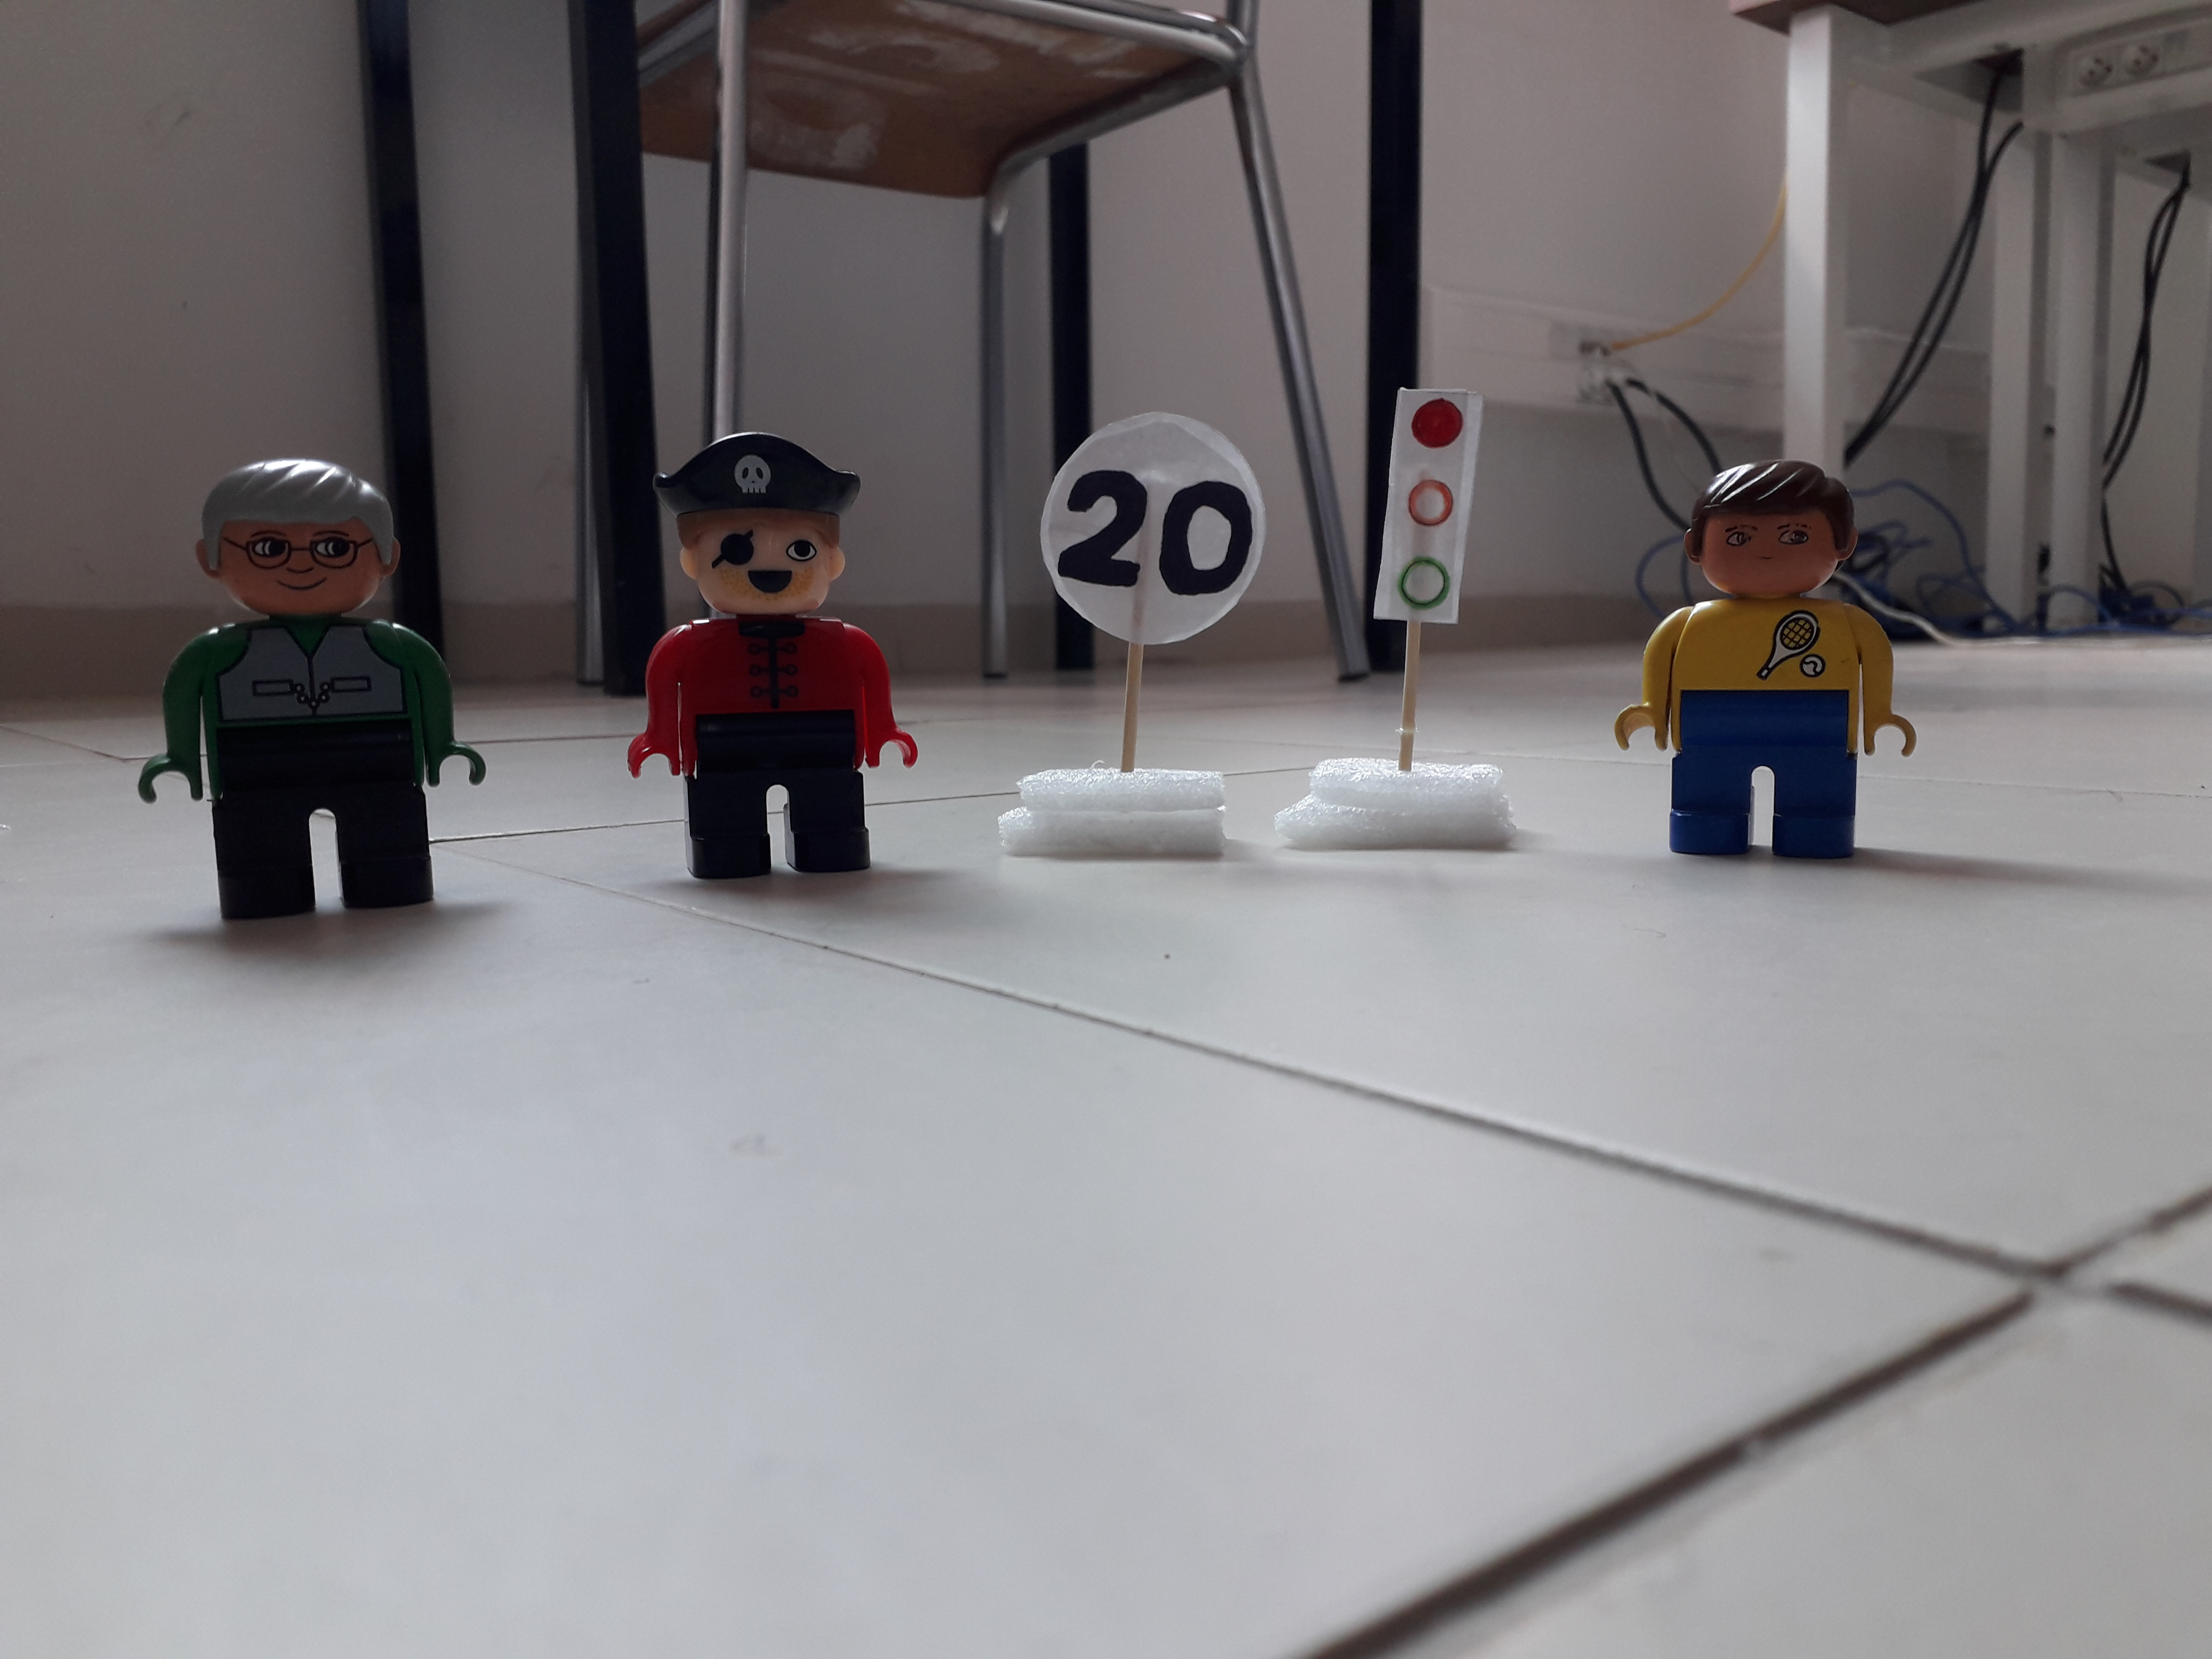20_sign: (1033, 416, 1273, 648)
person: (135, 451, 487, 916), (627, 434, 923, 883), (1617, 457, 1926, 865)
red_light: (1355, 383, 1498, 627)
